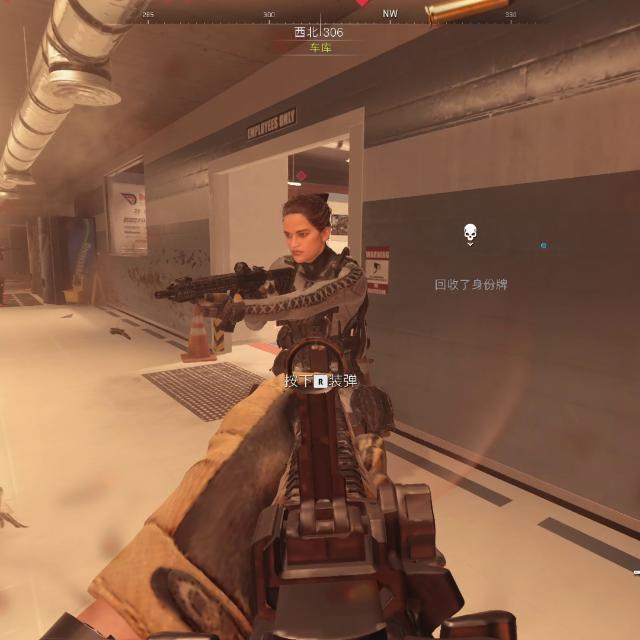MW2_body: (201, 170, 368, 375)
